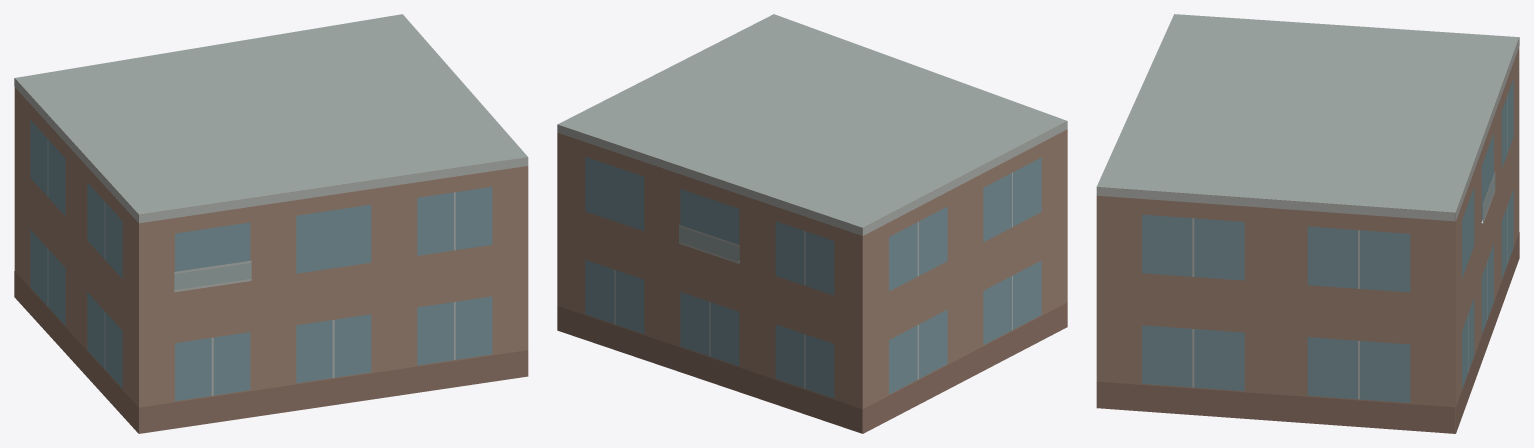
The model's file is survey-upis-32560920.glb.
3 renders of one model, left to right at view 1: azimuth 30°, elevation 25°; view 2: azimuth 150°, elevation 25°; view 3: azimuth 270°, elevation 25°, orthographic. The views are drawn at different scales.
Visible parts, largest first — view 1: survey-upis-32560920.tmp; view 2: survey-upis-32560920.tmp; view 3: survey-upis-32560920.tmp.
Part boxes in pixels (x1,y1,x2,y2): survey-upis-32560920.tmp: [14, 14, 528, 433]; survey-upis-32560920.tmp: [557, 14, 1067, 433]; survey-upis-32560920.tmp: [1096, 14, 1519, 433].
Size of the model in its own units: 11.75 by 6.1 by 10.58.
